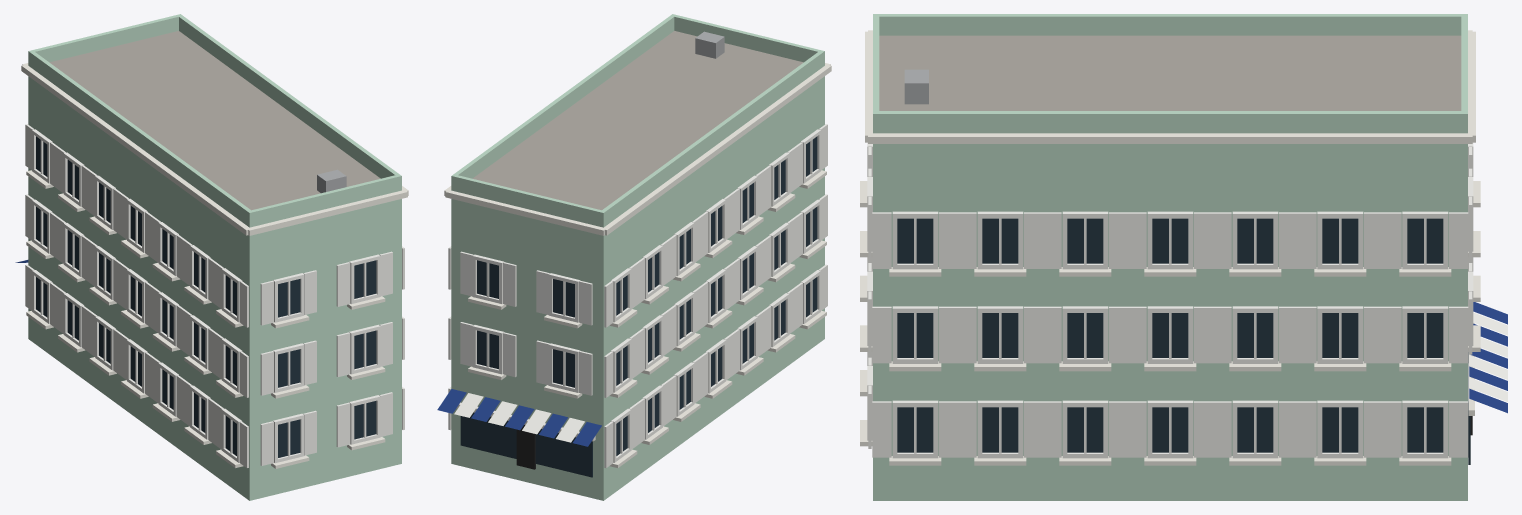
3 views of the same model, side by side, from view 1: azimuth 30°, elevation 25°; view 2: azimuth 150°, elevation 25°; view 3: azimuth 270°, elevation 25° (orthographic). The views are drawn at different scales.
Visible parts, largest first — view 1: b3244; view 2: b3244; view 3: b3244.
Boxes of the visible parts, x1,y1,x2,y2 form: b3244: [15, 14, 408, 500]; b3244: [437, 14, 831, 500]; b3244: [860, 14, 1507, 500].
Size of the model in its own units: 3267 by 5357 by 8080.
